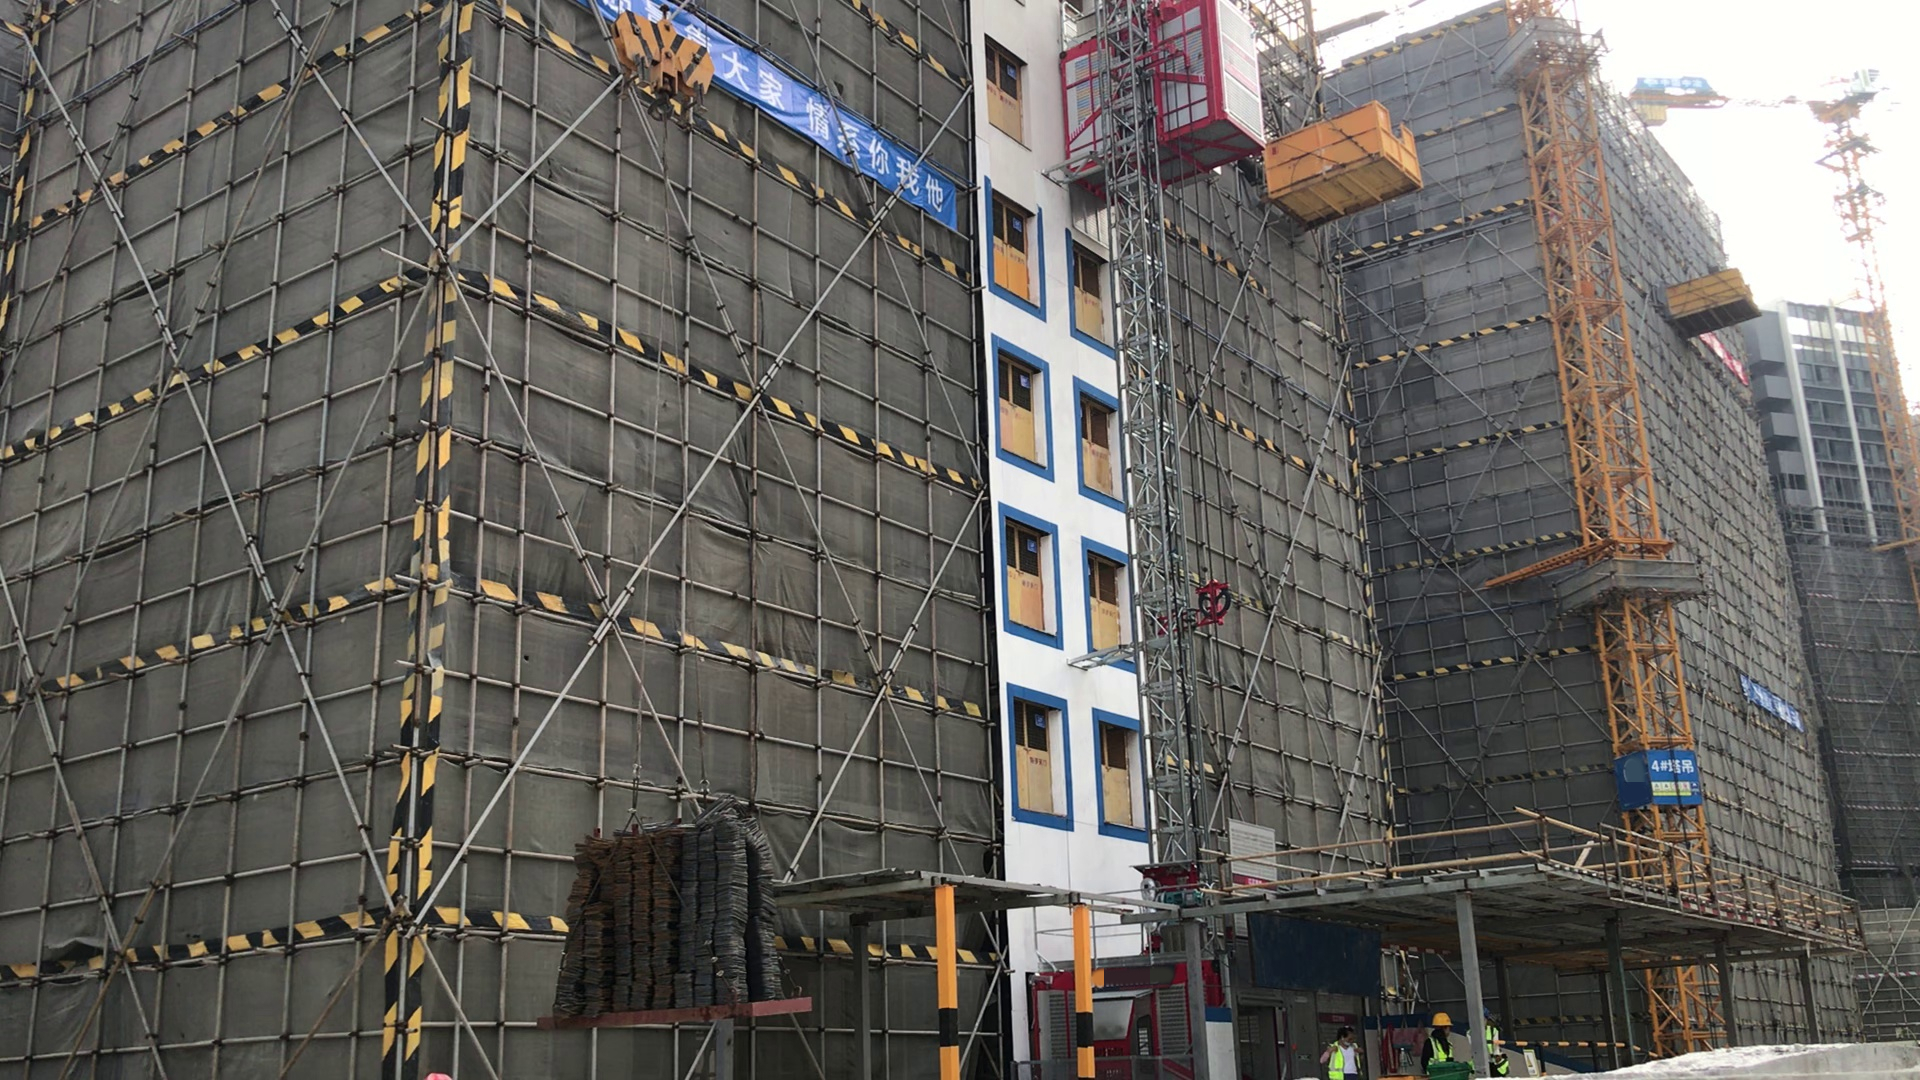helmet: (1429, 1011, 1451, 1026)
hook: (604, 1, 715, 129)
person: (1319, 1020, 1370, 1080), (1471, 1006, 1510, 1079), (1420, 1011, 1458, 1075)
slogan: (720, 16, 964, 229), (1734, 669, 1807, 734), (1642, 745, 1699, 802), (1703, 333, 1754, 384), (1628, 73, 1722, 97)
vest: (1325, 1044, 1363, 1079), (1485, 1026, 1510, 1073), (1431, 1034, 1454, 1063)
